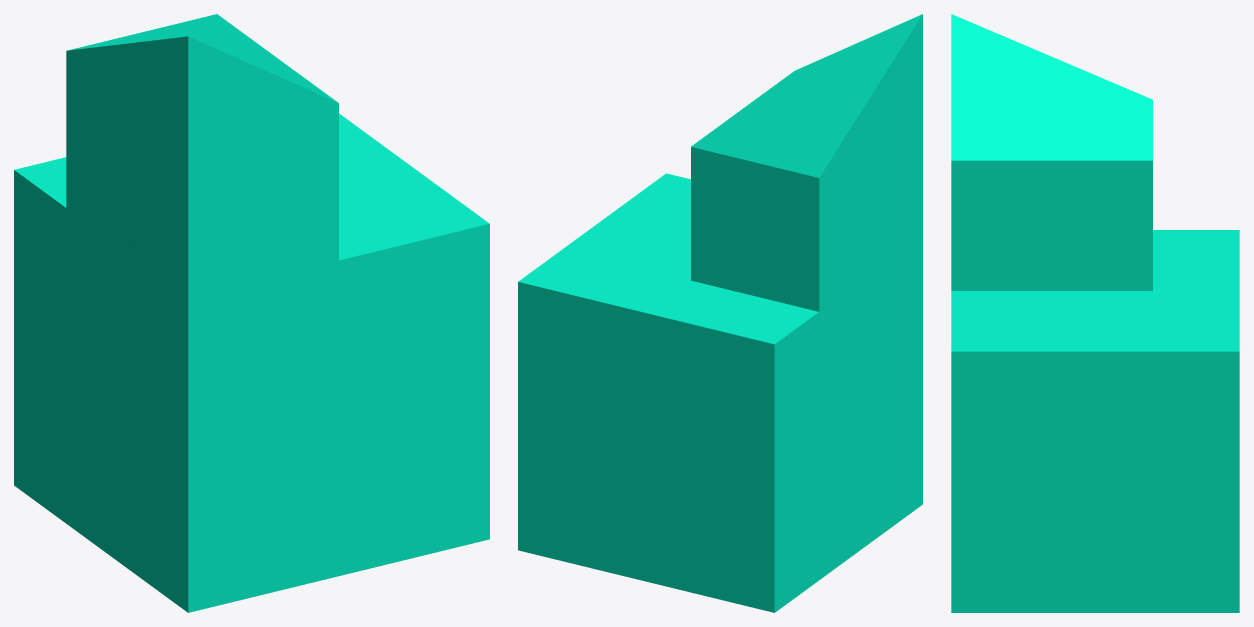
3 renders of one model, left to right at view 1: azimuth 30°, elevation 25°; view 2: azimuth 150°, elevation 25°; view 3: azimuth 270°, elevation 25°, orthographic. The views are drawn at different scales.
Parts seen in each view (by area): view 1: test; view 2: test; view 3: test.
Part boxes in pixels (x1,y1,x2,y2): test: [14, 14, 489, 612]; test: [518, 14, 922, 612]; test: [951, 14, 1239, 612].
Bounding box in the file's own units: 1 × 1.83 × 1.
